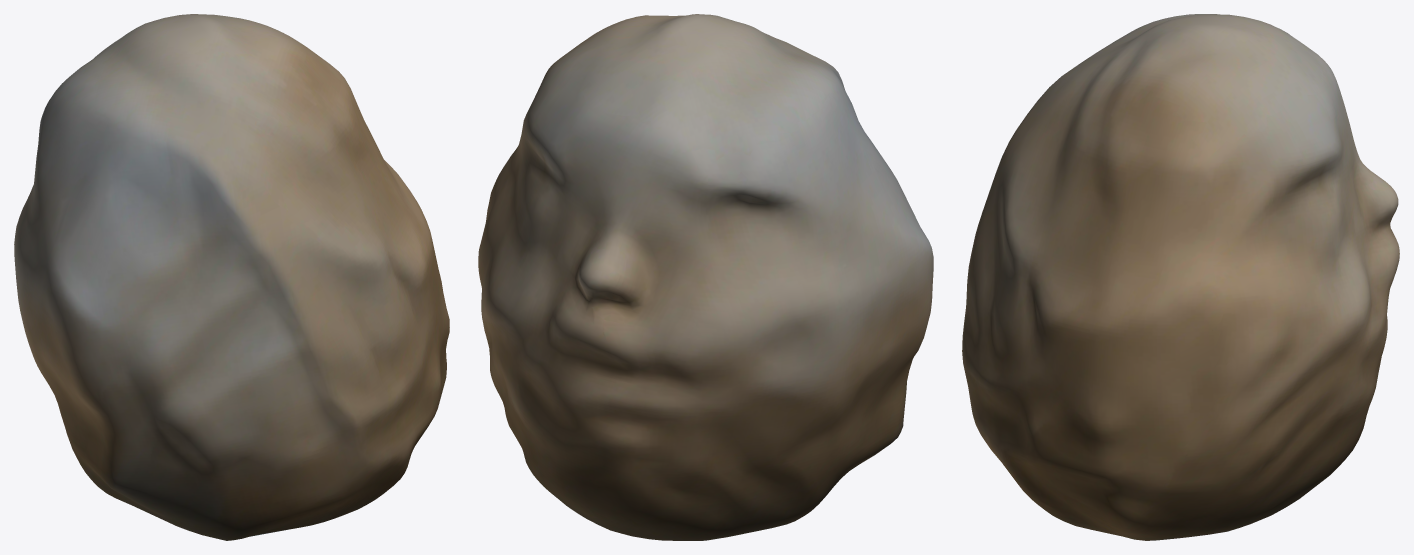
File: Nature__large_rock_photographic_e7043c01_v2.cluster.glb
The picture shows the model from 3 angles, left to right: view 1: azimuth 30°, elevation 25°; view 2: azimuth 150°, elevation 25°; view 3: azimuth 270°, elevation 25°; orthographic projection. The views are drawn at different scales.
Parts seen in each view (by area): view 1: material; view 2: material; view 3: material.
Part boxes in pixels (x1=…): material: x1=14, y1=14, x2=449, y2=540; material: x1=478, y1=14, x2=933, y2=540; material: x1=962, y1=14, x2=1399, y2=540.
Bounding box in the file's own units: 1.68 × 1.9 × 1.67.
1 material, 1 textured.
